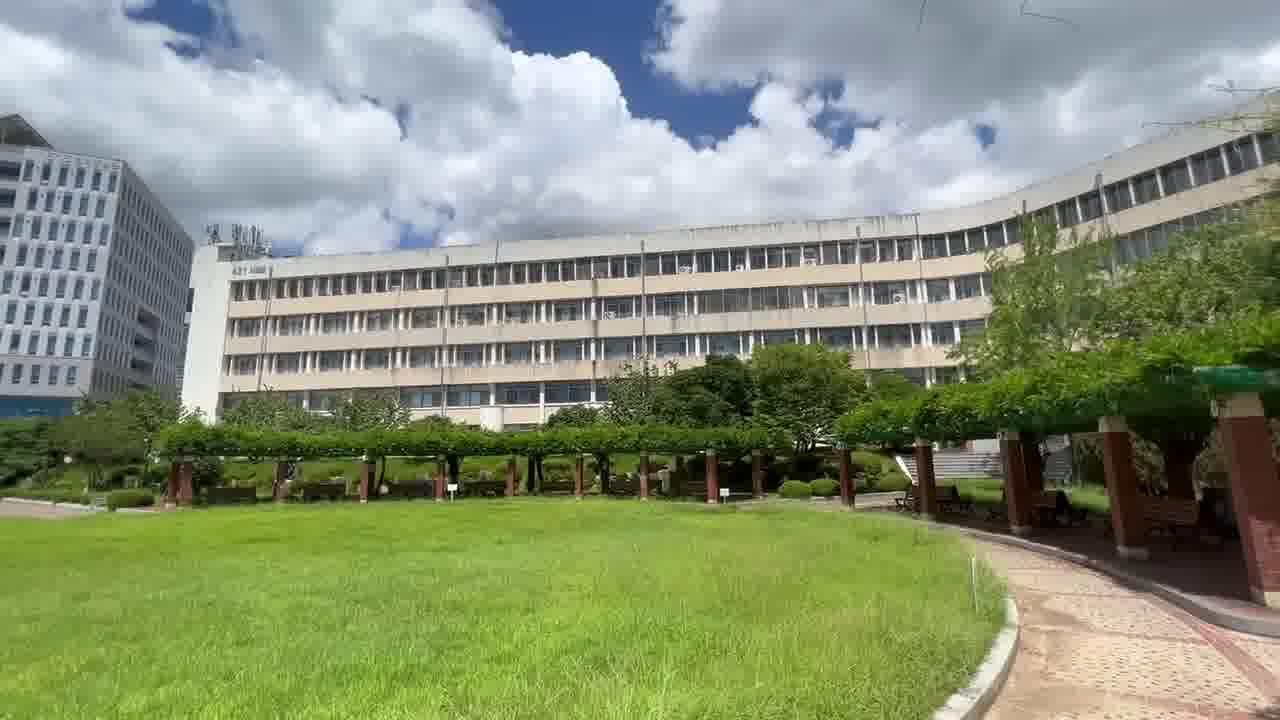building: (191, 216, 967, 356)
